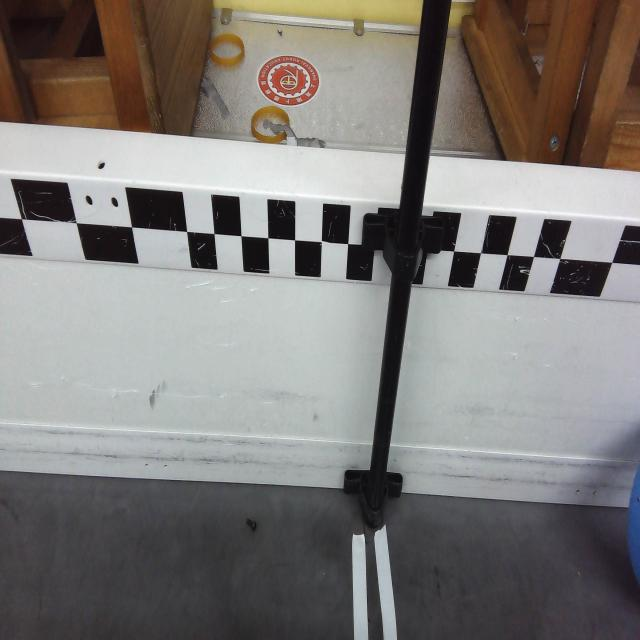Blue-Ring: (627, 453, 640, 600)
